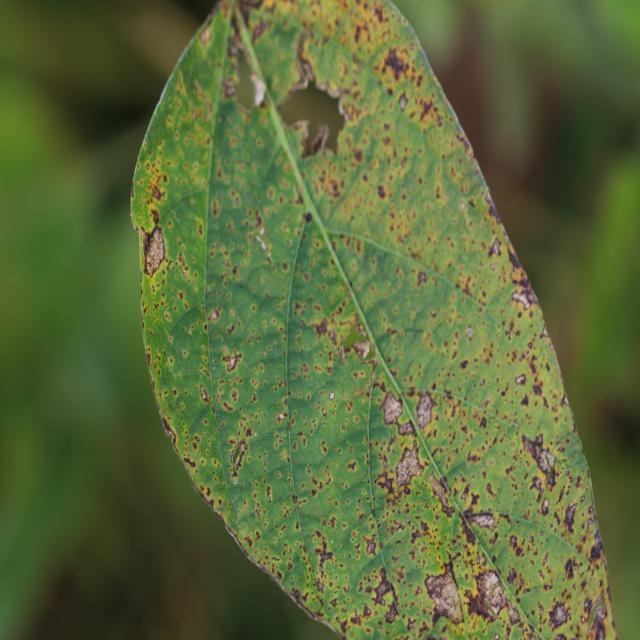Bacterial_Blight: (277, 77, 344, 151), (222, 9, 268, 113), (444, 485, 507, 542), (141, 206, 172, 293), (422, 563, 465, 625), (515, 357, 559, 414), (521, 431, 558, 489), (331, 315, 374, 364), (286, 583, 335, 626), (394, 441, 425, 486), (581, 590, 608, 636), (511, 268, 541, 309), (312, 539, 335, 581), (429, 473, 453, 511), (382, 47, 408, 80), (415, 391, 436, 428), (372, 575, 395, 608), (229, 439, 249, 476), (381, 392, 403, 425), (193, 79, 211, 116), (251, 13, 272, 43), (253, 229, 272, 262), (549, 601, 571, 628), (587, 531, 604, 563), (507, 245, 527, 271), (418, 97, 438, 123), (222, 349, 243, 372), (485, 194, 501, 222), (376, 473, 394, 494), (199, 21, 213, 47), (312, 317, 329, 338), (130, 210, 142, 234), (564, 557, 577, 579), (291, 492, 307, 509), (489, 237, 502, 257), (164, 426, 176, 447), (365, 537, 377, 555), (398, 92, 409, 111), (183, 454, 196, 469), (151, 185, 163, 201), (208, 308, 221, 322), (200, 384, 210, 402), (150, 208, 160, 225), (417, 269, 427, 286), (145, 347, 152, 368), (254, 211, 262, 229), (377, 184, 386, 199), (515, 374, 526, 385), (304, 212, 312, 223), (172, 388, 177, 397)
Soybean: (130, 0, 617, 640)
